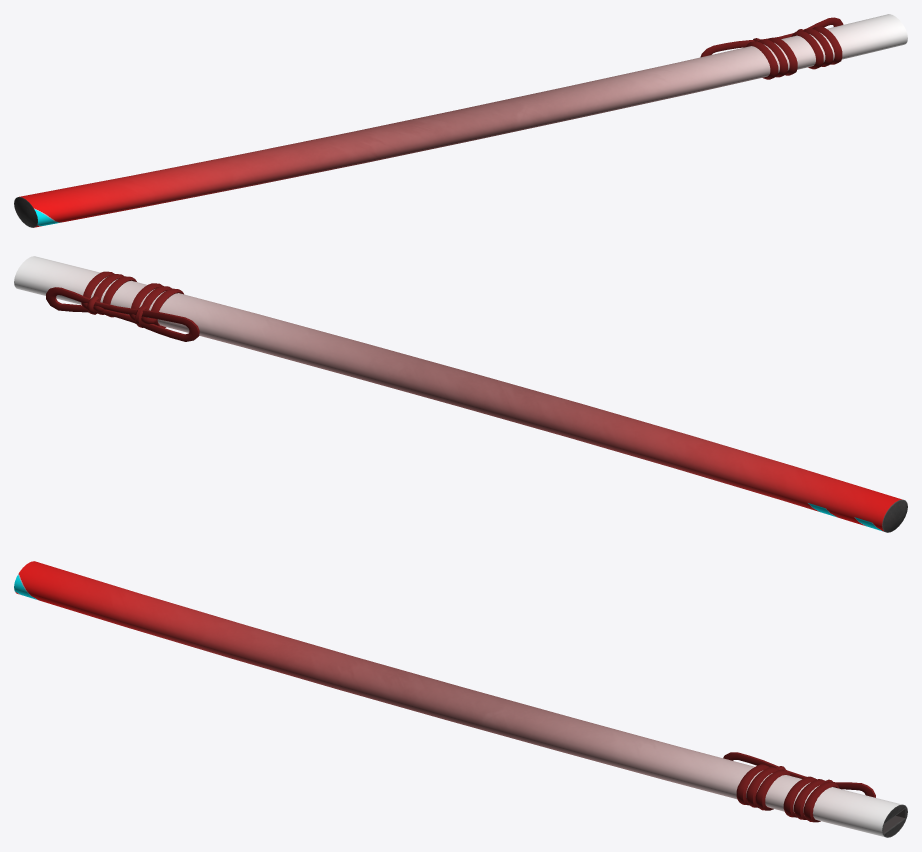
Rendered from 武士刀.FBX.
The picture shows the model from 3 angles, top to bottom: view 1: azimuth 30°, elevation 25°; view 2: azimuth 150°, elevation 25°; view 3: azimuth 330°, elevation 25°; orthographic projection. The views are drawn at different scales.
Parts seen in each view (by area): view 1: katana_low; view 2: katana_low; view 3: katana_low.
Part boxes in pixels (bbox=[...]): katana_low: bbox=[14, 14, 907, 227]; katana_low: bbox=[14, 256, 907, 532]; katana_low: bbox=[14, 561, 907, 837].
Size of the model in its own units: 71.28 by 2.52 by 8.1.
1 material, 1 textured.
